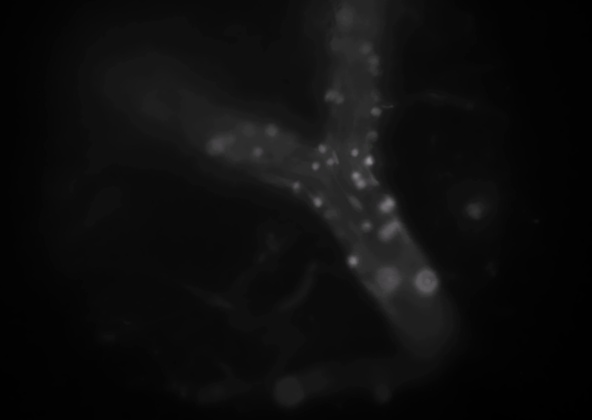cell: (421, 274, 435, 288), (368, 104, 382, 118), (346, 146, 360, 160), (362, 154, 376, 168), (314, 143, 328, 157), (309, 159, 323, 173), (324, 155, 338, 169), (323, 89, 337, 103), (349, 170, 363, 184), (333, 93, 347, 107), (354, 178, 368, 192), (347, 255, 361, 269), (382, 271, 396, 285), (381, 229, 395, 243), (385, 196, 399, 210), (383, 220, 397, 234), (379, 200, 393, 214), (309, 196, 323, 210), (289, 181, 303, 195), (250, 142, 264, 156), (208, 137, 222, 151), (360, 44, 374, 58), (367, 53, 381, 67), (331, 38, 345, 52), (366, 130, 380, 144), (265, 124, 279, 138), (368, 173, 382, 187), (359, 219, 373, 233)
